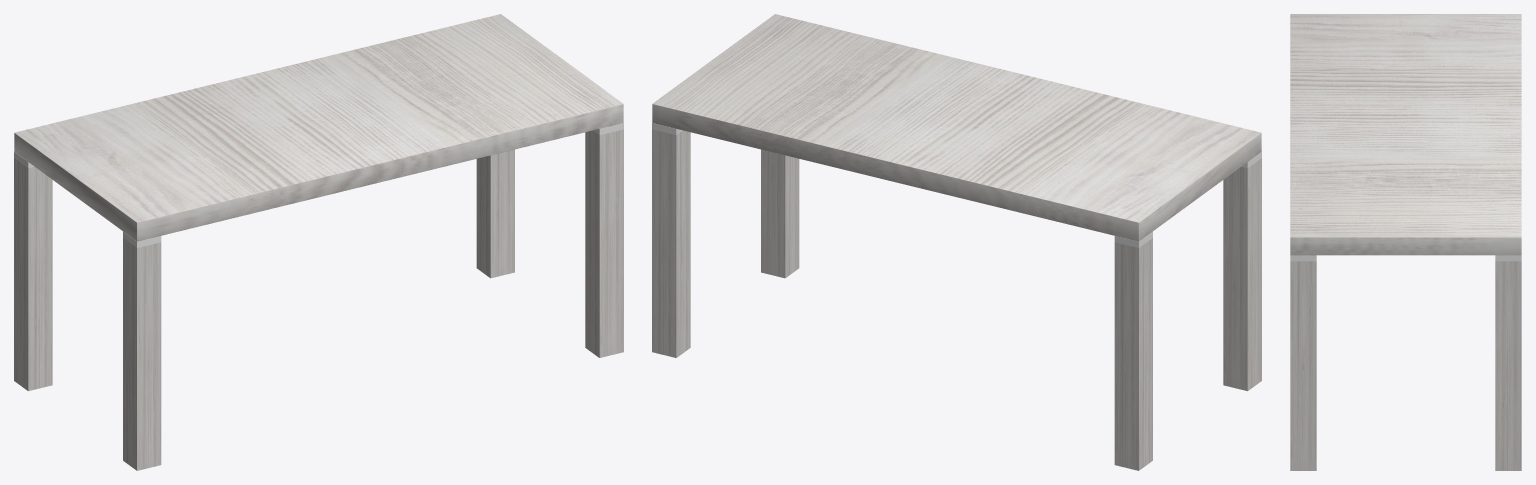
File: table-dining.obj
3 renders of one model, left to right at view 1: azimuth 30°, elevation 25°; view 2: azimuth 150°, elevation 25°; view 3: azimuth 270°, elevation 25°, orthographic. The views are drawn at different scales.
Parts seen in each view (by area): view 1: table-dining; view 2: table-dining; view 3: table-dining.
Part boxes in pixels (x1=…): table-dining: x1=14, y1=14, x2=623, y2=470; table-dining: x1=652, y1=14, x2=1261, y2=470; table-dining: x1=1290, y1=14, x2=1521, y2=470.
Bounding box in the file's own units: 2.31 × 1.13 × 1.01.
Materials: 2 (2 with a texture image).
